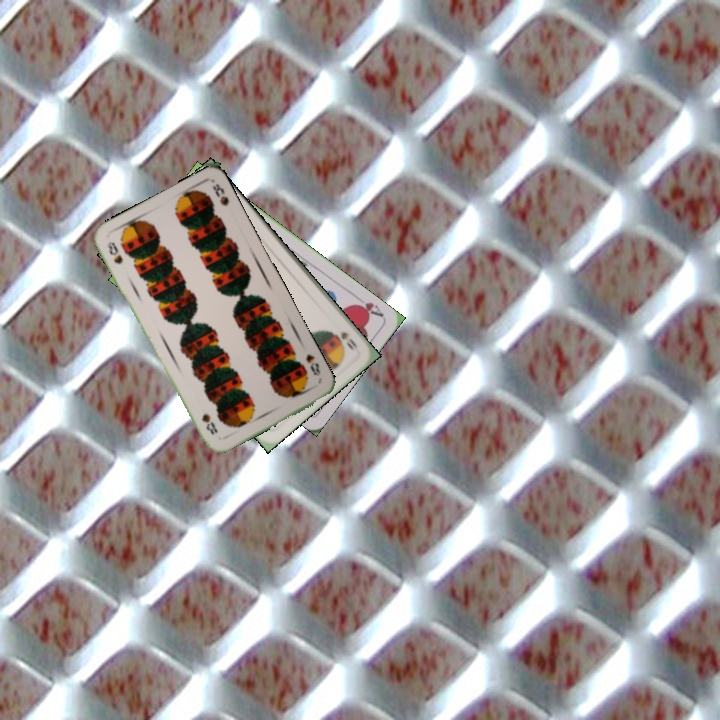HA: (350, 291, 387, 320)
S8: (103, 237, 125, 267), (302, 350, 323, 378)
SO: (336, 328, 360, 354)
